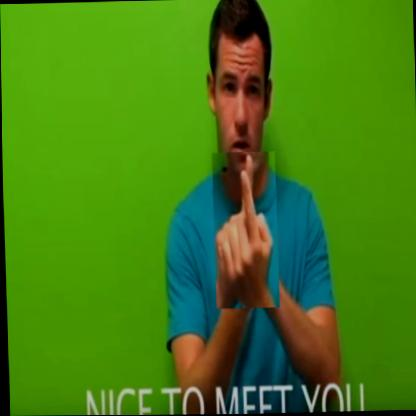NiceToMeetYou: (211, 152, 279, 309)
